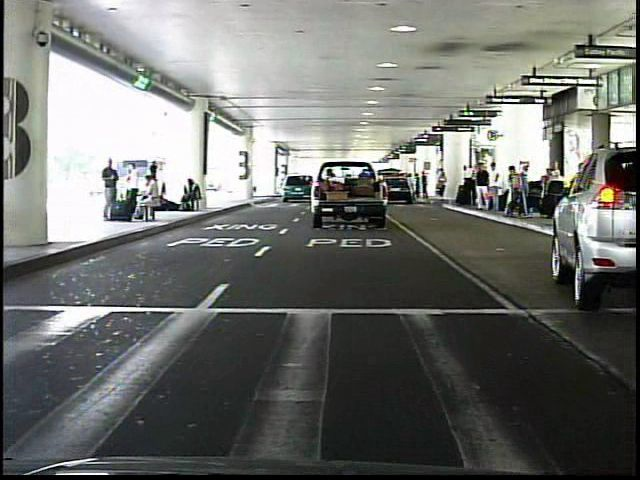person: (102, 157, 126, 227), (471, 161, 491, 217), (457, 162, 476, 209), (487, 162, 503, 216), (436, 166, 452, 206), (412, 170, 424, 203), (421, 170, 432, 202)
